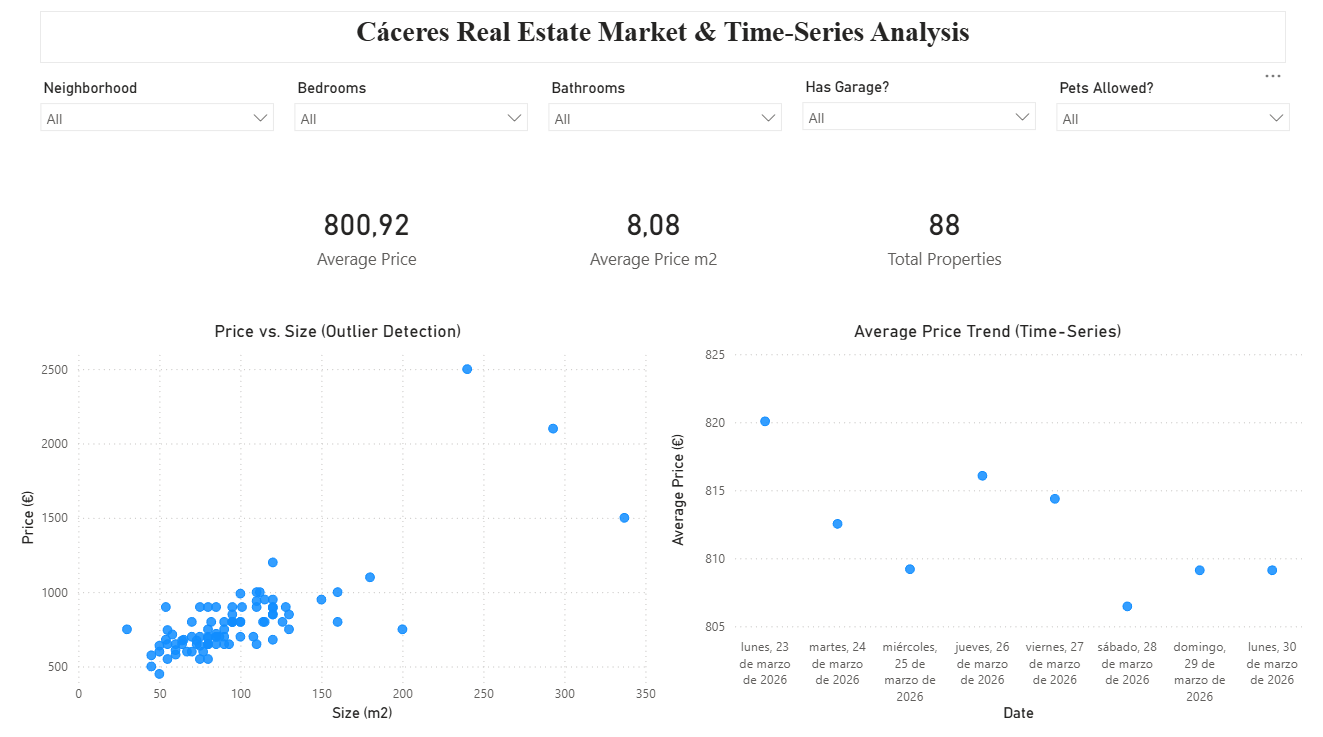

This screenshot's page, from the dashboard's own definition file:
{"tool":"powerbi","page":{"name":"Página 1","canvas":[1280,720],"ordinal":0},"visuals":[{"type":"card","fields":{"Values":["rental_properties.Precio Medio"]},"box":[216.7,91.5,280.3,280.3],"z":0},{"type":"card","fields":{"Values":["rental_properties.Precio Medio m2"]},"box":[493.1,91.5,280.3,280.3],"z":1000},{"type":"card","fields":{"Values":["rental_properties.Total Pisos"]},"box":[773.4,91.5,280.3,280.3],"z":2000},{"type":"slicer","fields":{"Values":["rental_properties.bedrooms"]},"box":[277.4,78,244.6,101.1],"z":3000},{"type":"slicer","fields":{"Values":["rental_properties.bathrooms"]},"box":[522,78,244.6,101.1],"z":4000},{"type":"slicer","fields":{"Values":["rental_properties.has_garage"]},"box":[766.7,77.1,244.6,101.1],"z":5000},{"type":"slicer","fields":{"Values":["rental_properties.pets_allowed"]},"box":[1011.3,78,244.6,101.1],"z":6000},{"type":"scatterChart","title":"Price vs. Size (Outlier Detection)","fields":{"X":["Sum(rental_properties.square_meters)"],"Y":["Sum(rental_properties.price_euros)"],"Category":["rental_properties.property_id"]},"box":[17.3,314.9,623.1,391],"z":7000},{"type":"scatterChart","title":"Average Price Trend (Time-Series)","fields":{"X":["price_history.record_date"],"Y":["Avg(price_history.price_euros)"]},"box":[643.4,314.9,623.1,391],"z":8000},{"type":"textbox","box":[42.4,17.3,1200.1,50.1],"z":9000},{"type":"slicer","fields":{"Values":["rental_properties.neighborhood_zone"]},"box":[32.7,78,244.6,101.1],"z":10000}]}

Visuals, with their boxes in screenshot pixels (x1, y1, x2, y2), scaled from the page's 1280x720 canvas onto the 1323x737 screenshot:
card - rental_properties.Precio Medio: region(224, 94, 514, 381)
card - rental_properties.Precio Medio m2: region(510, 94, 799, 381)
card - rental_properties.Total Pisos: region(799, 94, 1089, 381)
slicer - rental_properties.bedrooms: region(287, 80, 540, 183)
slicer - rental_properties.bathrooms: region(540, 80, 792, 183)
slicer - rental_properties.has_garage: region(792, 79, 1045, 182)
slicer - rental_properties.pets_allowed: region(1045, 80, 1298, 183)
"Price vs. Size (Outlier Detection)" scatterChart: region(18, 322, 662, 723)
"Average Price Trend (Time-Series)" scatterChart: region(665, 322, 1309, 723)
textbox: region(44, 18, 1284, 69)
slicer - rental_properties.neighborhood_zone: region(34, 80, 287, 183)
